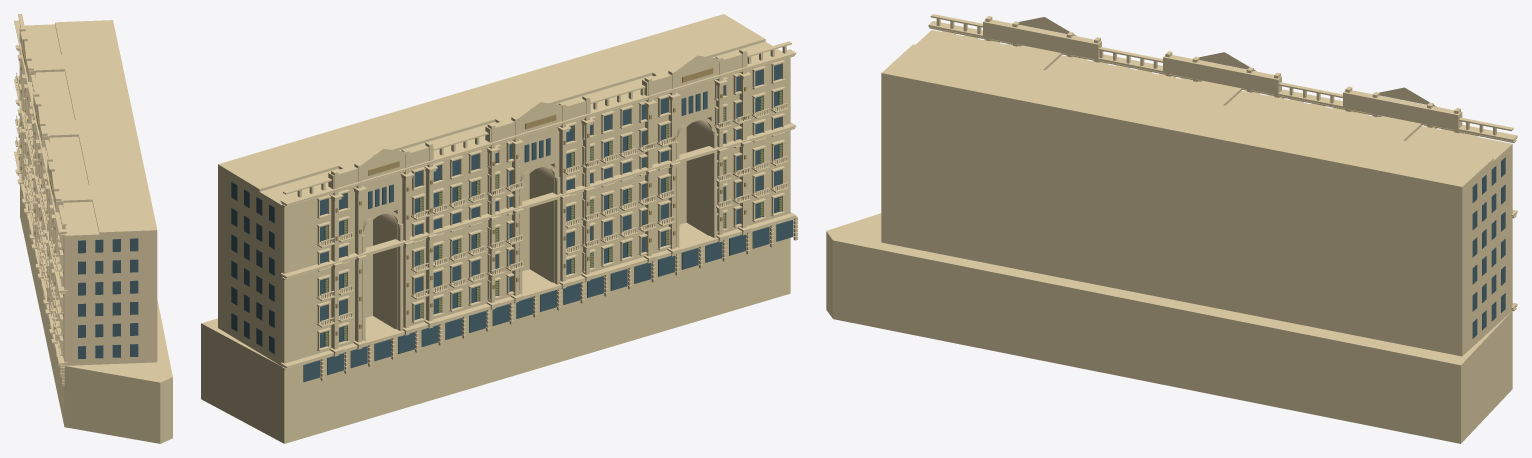
The model's file is balluta-buildings.glb.
3 renders of one model, left to right at view 1: azimuth 30°, elevation 25°; view 2: azimuth 150°, elevation 25°; view 3: azimuth 270°, elevation 25°, orthographic. The views are drawn at different scales.
Visible parts, largest first — view 1: Balluta Buildings; view 2: Balluta Buildings; view 3: Balluta Buildings.
Boxes of the visible parts, left/top/right/bottom form: Balluta Buildings: left=14, top=14, right=172, bottom=443; Balluta Buildings: left=201, top=14, right=797, bottom=443; Balluta Buildings: left=826, top=14, right=1517, bottom=443.
Bounding box in the file's own units: 54.38 × 41 × 92.45.
